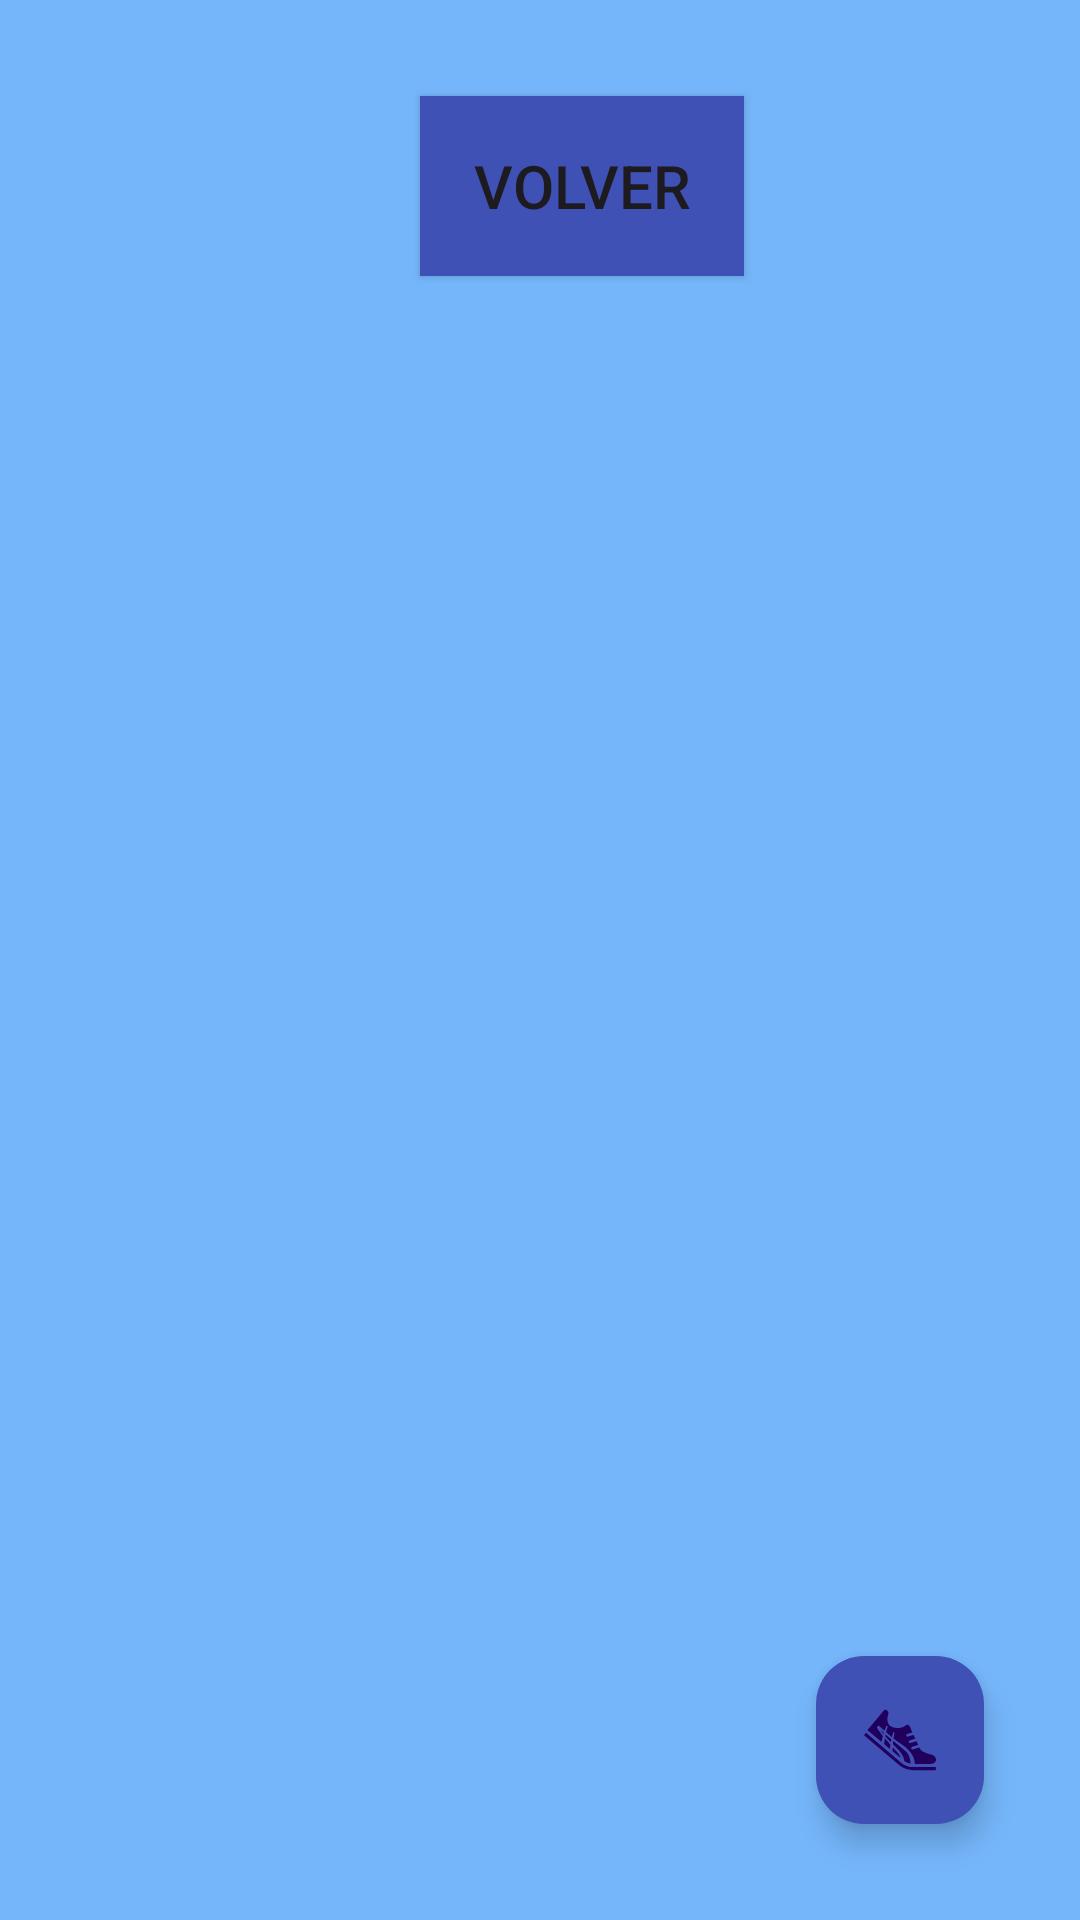

Icon click points for this 1080px x 1920px phone screenshot, format (x,y):
sports shoes: (900,1740)
